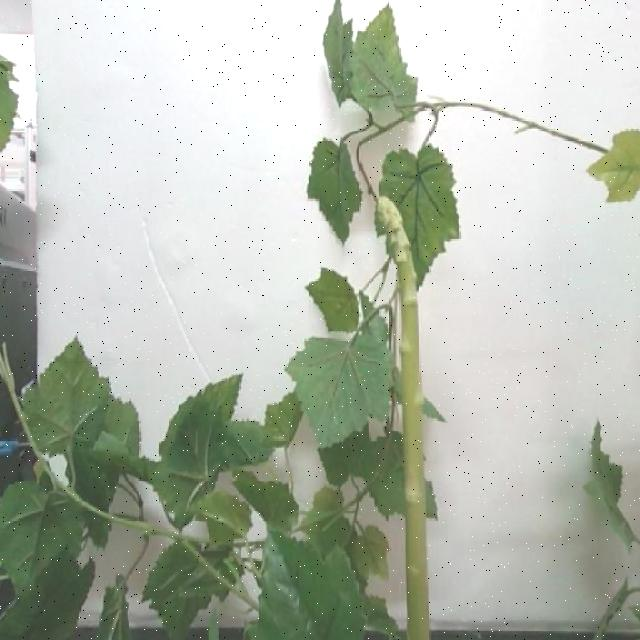aspargus: (375, 193, 432, 640)
